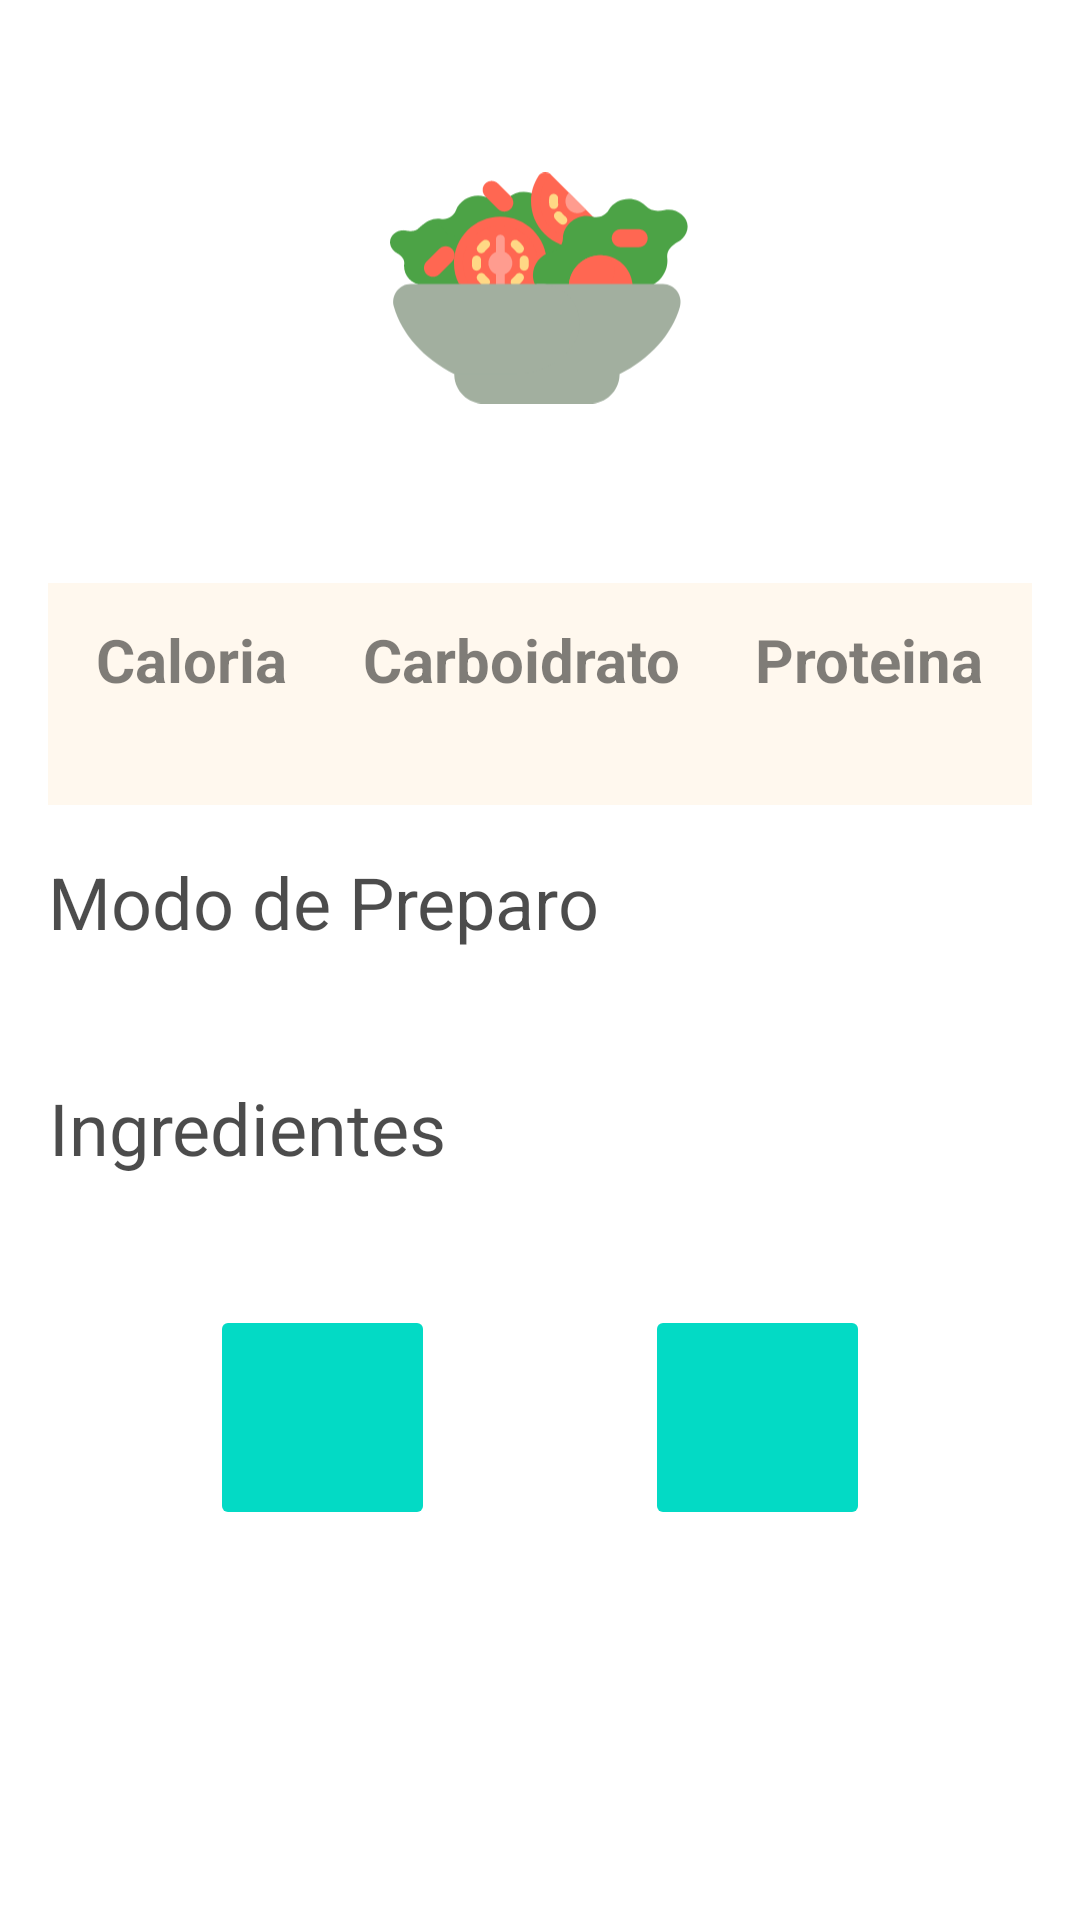

Locate icon controls on the screen. Image size 1080 × 1920, boxes as detection(x1, y1, x2, y2).
recipe: detection(390, 172, 688, 404)
